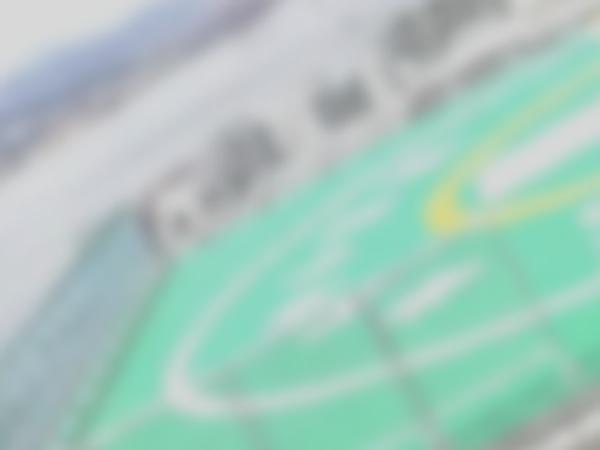Apron: (424, 55, 600, 205)
